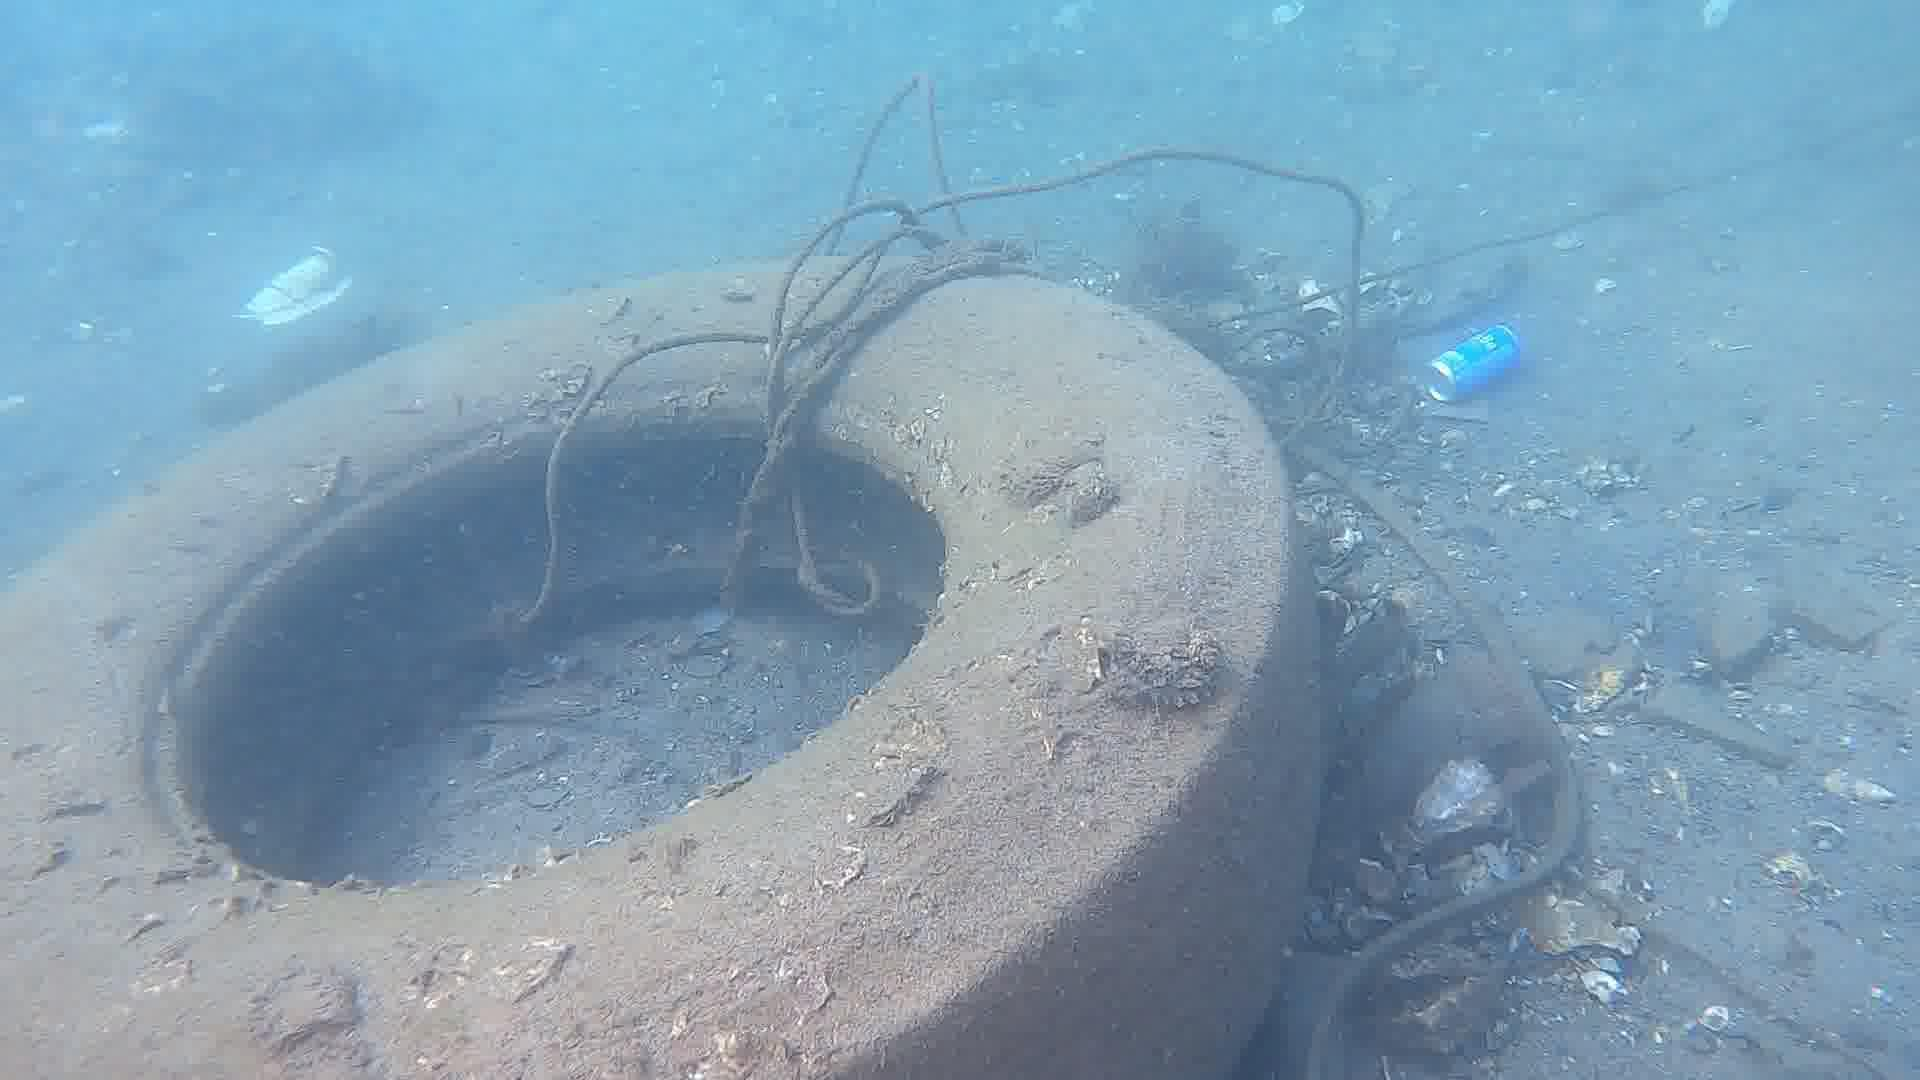bundle of ropes: (517, 70, 1366, 622)
tire: (0, 255, 1321, 1080)
